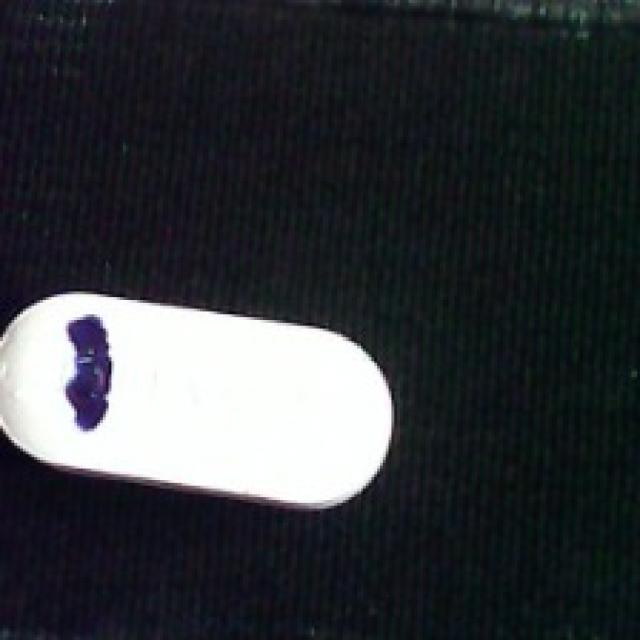defected: (0, 292, 400, 508)
